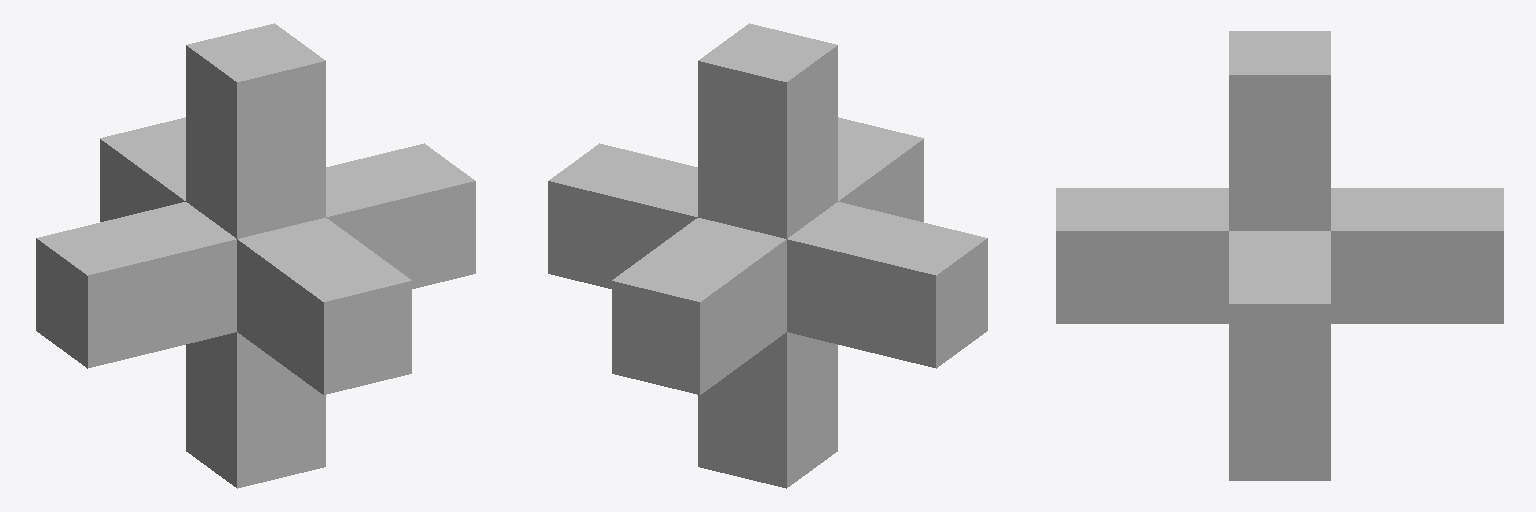
File: bone.obj
3 views of the same model, side by side, from view 1: azimuth 30°, elevation 25°; view 2: azimuth 150°, elevation 25°; view 3: azimuth 270°, elevation 25° (orthographic).
Parts seen in each view (by area): view 1: Cube; view 2: Cube; view 3: Cube.
Part boxes in pixels (x1,y1,x2,y2): Cube: (36,23,475,488); Cube: (548,23,987,488); Cube: (1056,31,1503,480).
Size of the model in its own units: 0.0622 by 0.0622 by 0.0622.